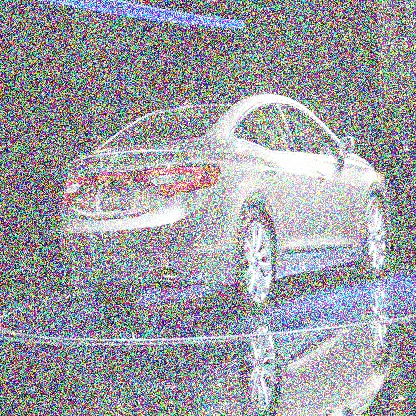Vehicle: (60, 92, 391, 314)
